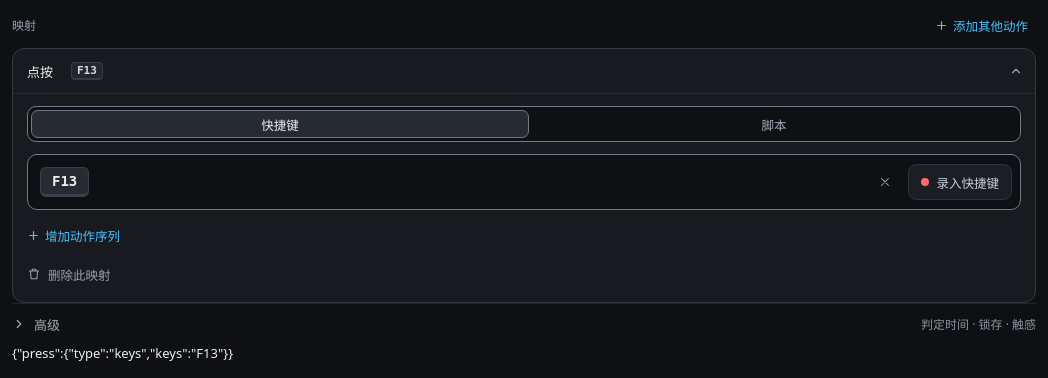
it: clears a shortcut in one edit
Click the button named "清除快捷键". click: (886, 182)
box: [870,167,900,197]
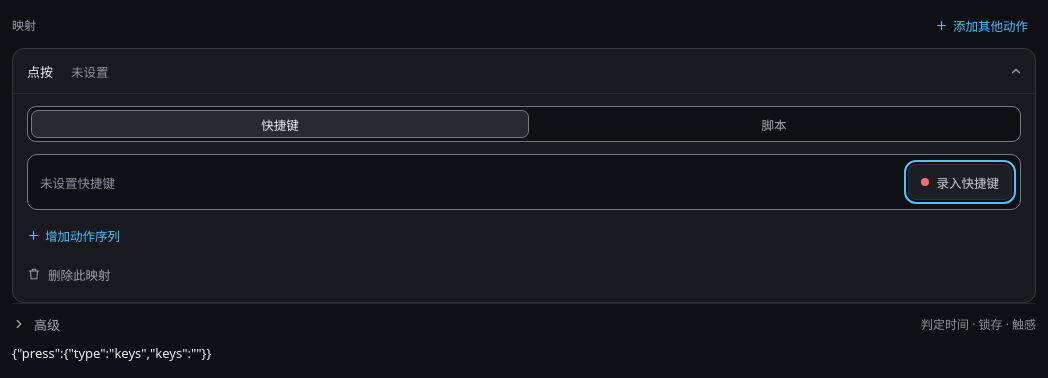
Check: the element "快捷键" shows "未设置快捷键", box [40,174,115,192]
Check: the button "清除快捷键" is gone
